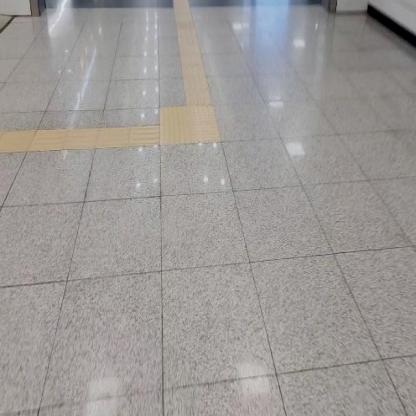podotacti: (145, 88, 238, 169), (0, 123, 160, 153), (173, 0, 214, 105)
